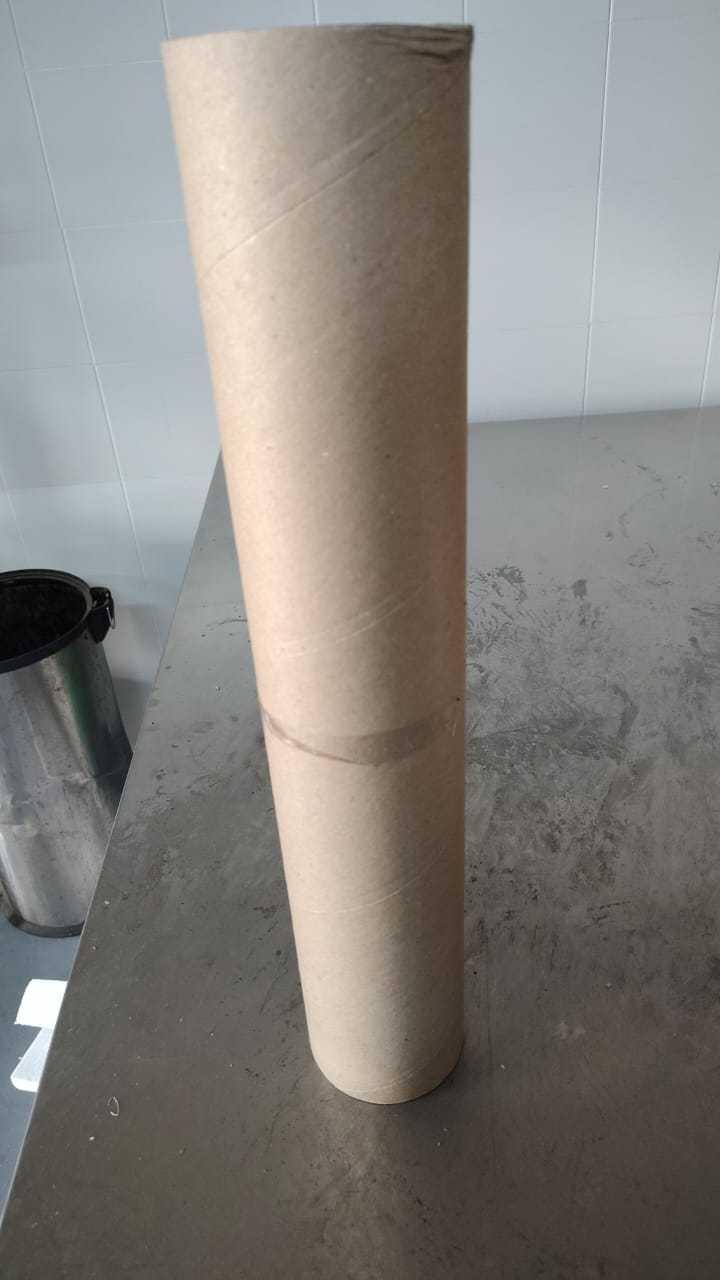Carton: (162, 27, 475, 1105)
